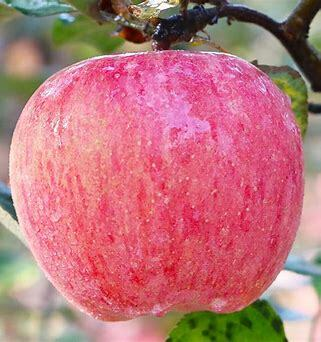apple: (9, 51, 304, 322)
